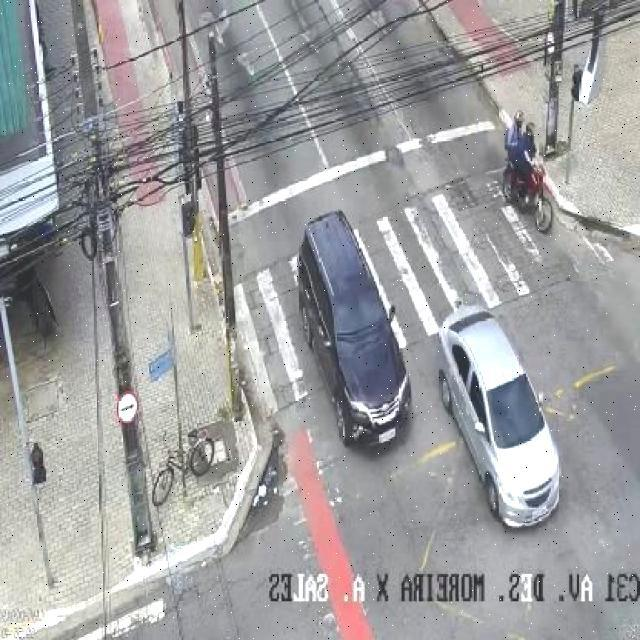Car: (296, 205, 414, 472), (437, 284, 555, 542)
Cycle: (482, 103, 558, 220)
